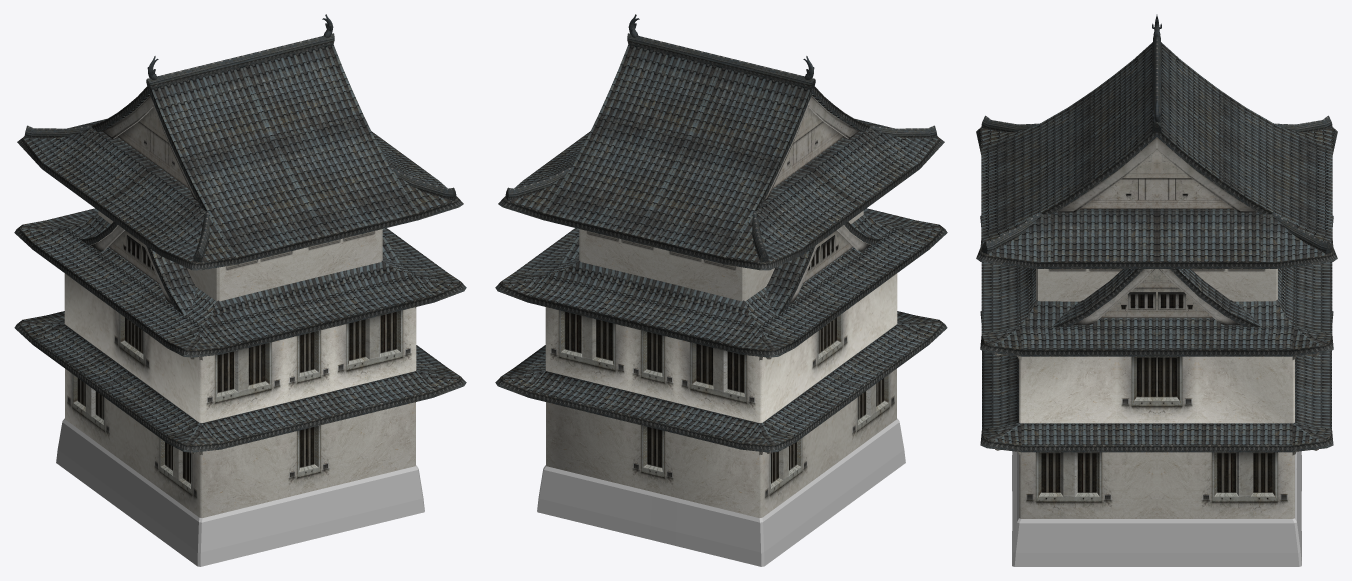
File: Outpost_typeB.fbx
3 views of the same model, side by side, from view 1: azimuth 30°, elevation 25°; view 2: azimuth 150°, elevation 25°; view 3: azimuth 270°, elevation 25° (orthographic).
Visible parts, largest first — view 1: Outpost_typeB; view 2: Outpost_typeB; view 3: Outpost_typeB.
Part boxes in pixels (x1,y1,x2,y2): Outpost_typeB: (14, 14, 466, 566); Outpost_typeB: (495, 14, 947, 566); Outpost_typeB: (976, 14, 1337, 566).
Size of the model in its own units: 543 by 827 by 596.
